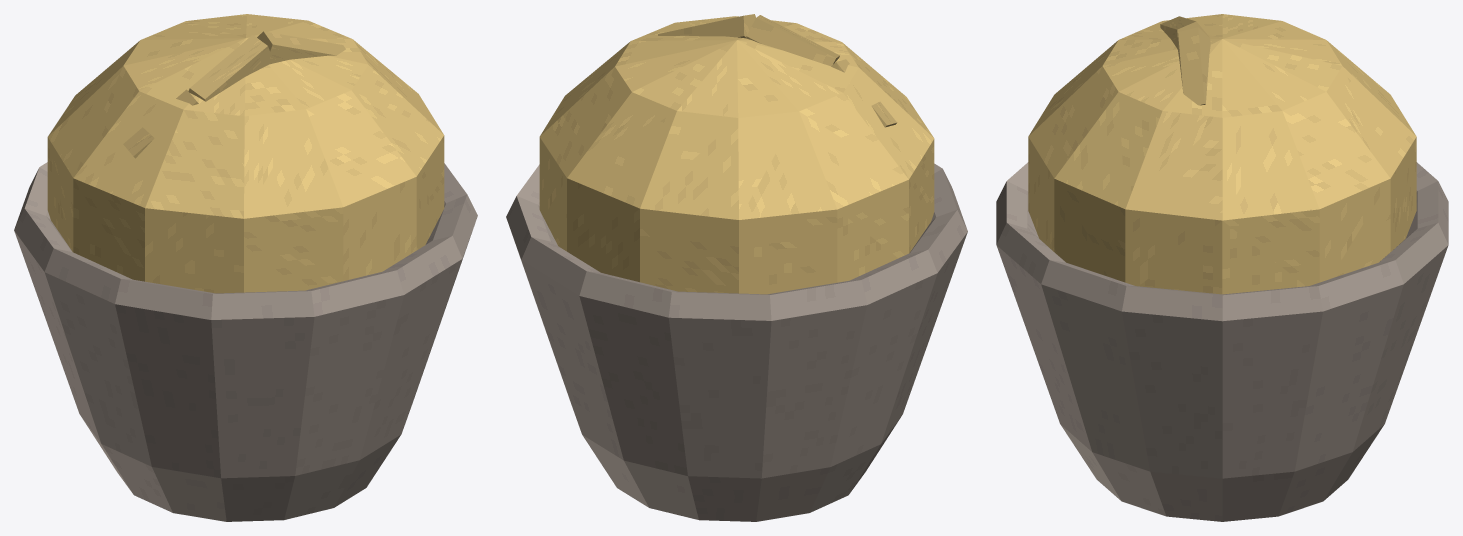
File: icecream_custard.glb
3 views of the same model, side by side, from view 1: azimuth 30°, elevation 25°; view 2: azimuth 150°, elevation 25°; view 3: azimuth 270°, elevation 25° (orthographic).
Parts seen in each view (by area): view 1: block_dessert dish, block_frozen scoop, block_scoop ridges 1, block_scoop ridges 2, block_scoop ridges 0; view 2: block_frozen scoop, block_dessert dish, block_scoop ridges 1, block_scoop ridges 2; view 3: block_dessert dish, block_frozen scoop, block_scoop ridges 2, block_scoop ridges 1.
Boxes of the visible parts, bbox=[...] form: block_dessert dish: bbox=[14, 162, 477, 521]; block_frozen scoop: bbox=[47, 14, 444, 293]; block_scoop ridges 1: bbox=[188, 35, 269, 101]; block_scoop ridges 2: bbox=[257, 31, 345, 64]; block_scoop ridges 0: bbox=[123, 89, 198, 158]; block_frozen scoop: bbox=[539, 16, 934, 294]; block_dessert dish: bbox=[506, 163, 967, 521]; block_scoop ridges 1: bbox=[746, 15, 839, 66]; block_scoop ridges 2: bbox=[658, 14, 755, 38]; block_dessert dish: bbox=[996, 162, 1448, 521]; block_frozen scoop: bbox=[1028, 14, 1416, 294]; block_scoop ridges 2: bbox=[1178, 27, 1210, 105]; block_scoop ridges 1: bbox=[1160, 16, 1209, 49].
Bounding box in the file's own units: 0.1142 × 0.1203 × 0.1113.
Materials: 1 (1 with a texture image).
